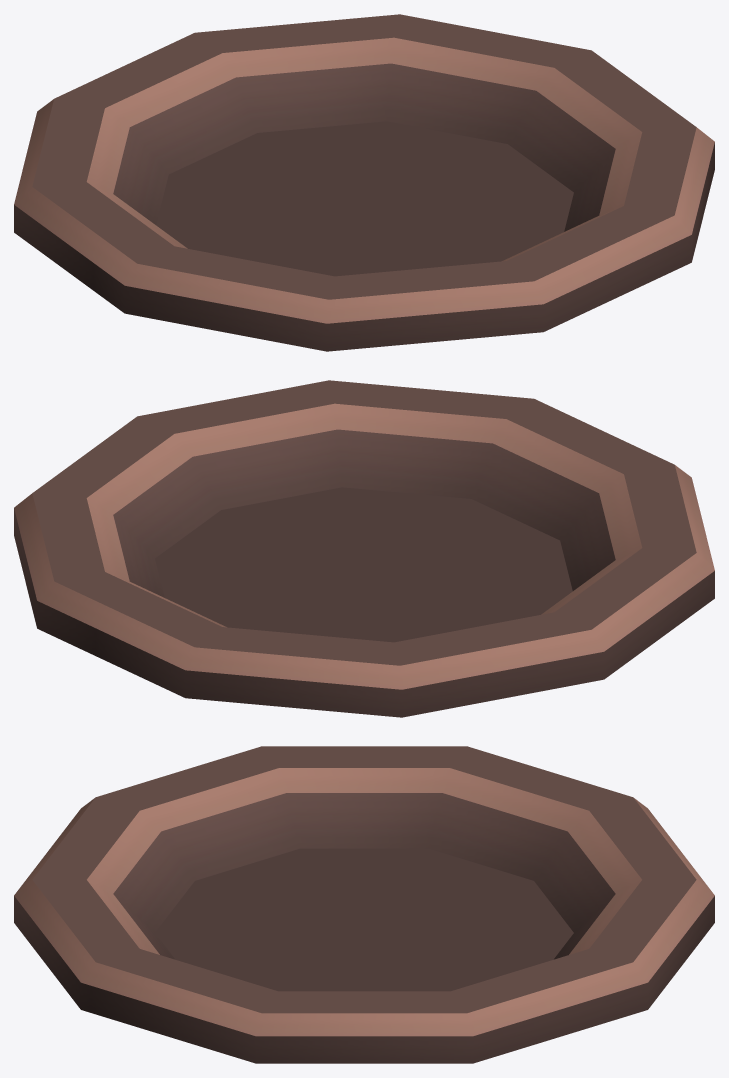
Rendered from Plate_1_C.glb.
3 renders of one model, top to bottom at view 1: azimuth 30°, elevation 25°; view 2: azimuth 150°, elevation 25°; view 3: azimuth 270°, elevation 25°, orthographic. The views are drawn at different scales.
Visible parts, largest first — view 1: Plate_1_C; view 2: Plate_1_C; view 3: Plate_1_C.
Boxes of the visible parts, x1=… form: Plate_1_C: x1=14, y1=14, x2=714, y2=351; Plate_1_C: x1=14, y1=380, x2=714, y2=717; Plate_1_C: x1=14, y1=746, x2=714, y2=1063.
Size of the model in its own units: 0.8458 by 0.0959 by 0.8893.
1 material, 1 textured.
